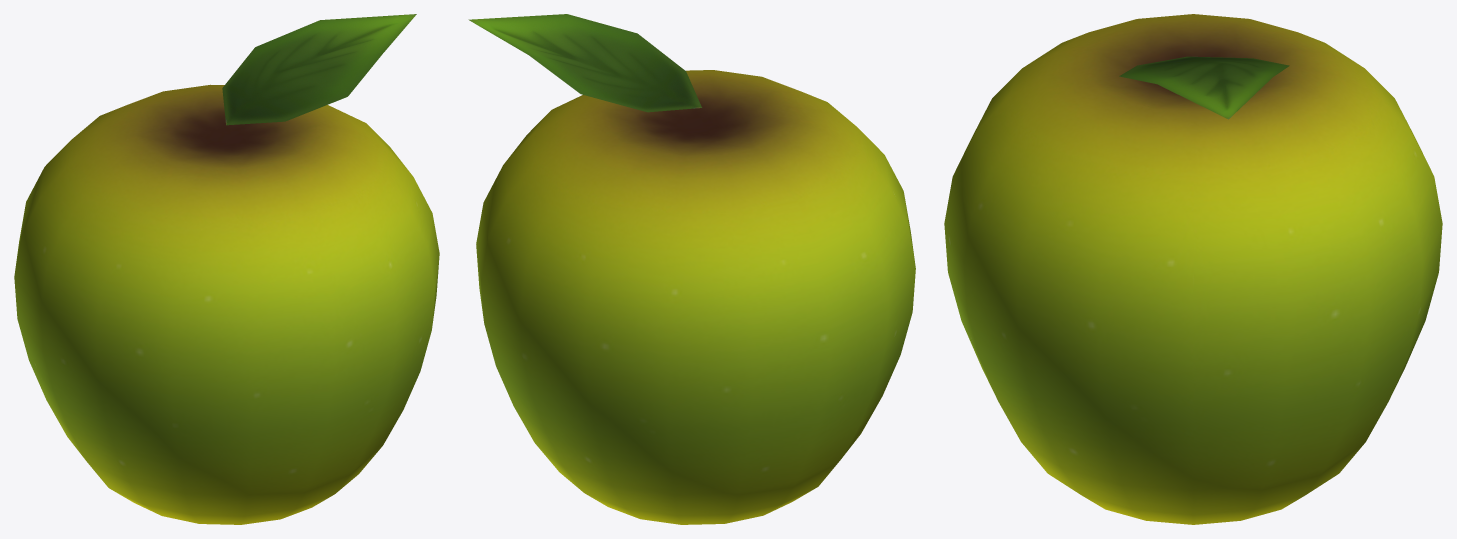
File: apple-medium-poly-green.fbx
3 renders of one model, left to right at view 1: azimuth 30°, elevation 25°; view 2: azimuth 150°, elevation 25°; view 3: azimuth 270°, elevation 25°, orthographic. The views are drawn at different scales.
Parts seen in each view (by area): view 1: apple_green, leafs_inv_2; view 2: apple_green, leafs_inv_2; view 3: apple_green, leafs_inv_2.
Part boxes in pixels (<box>): apple_green: <box>14,84,439,524</box>; leafs_inv_2: <box>222,14,416,125</box>; apple_green: <box>476,70,915,524</box>; leafs_inv_2: <box>468,14,701,112</box>; apple_green: <box>944,14,1442,524</box>; leafs_inv_2: <box>1119,56,1289,119</box>.
Size of the model in its own units: 161 by 163 by 153.
Materials: 2 (2 with a texture image).
